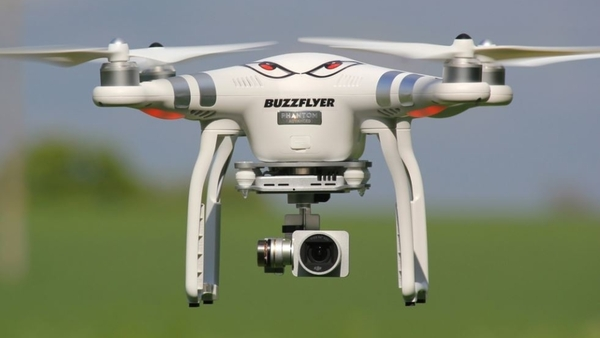drone: (1, 33, 600, 310)
